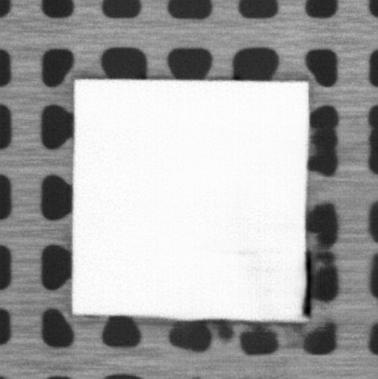DIE_BROKEN: (300, 250, 312, 320)
